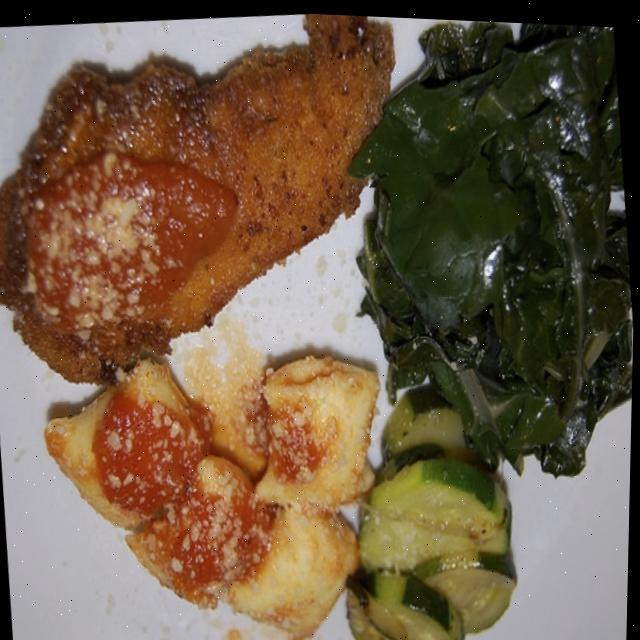鸡肉料理 含炸鸡: (0, 2, 419, 412)
